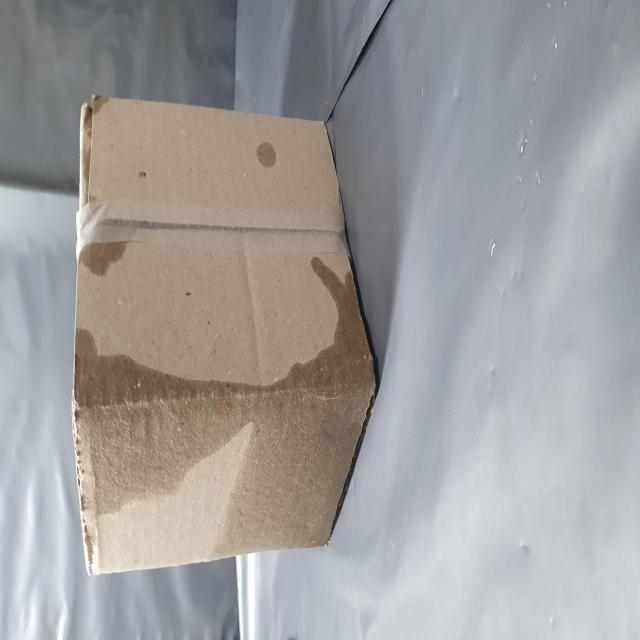wet: (33, 142, 218, 640)
